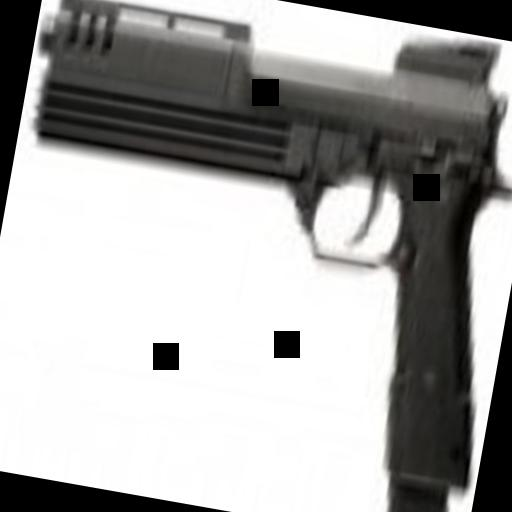Handgun: (0, 0, 512, 499)
